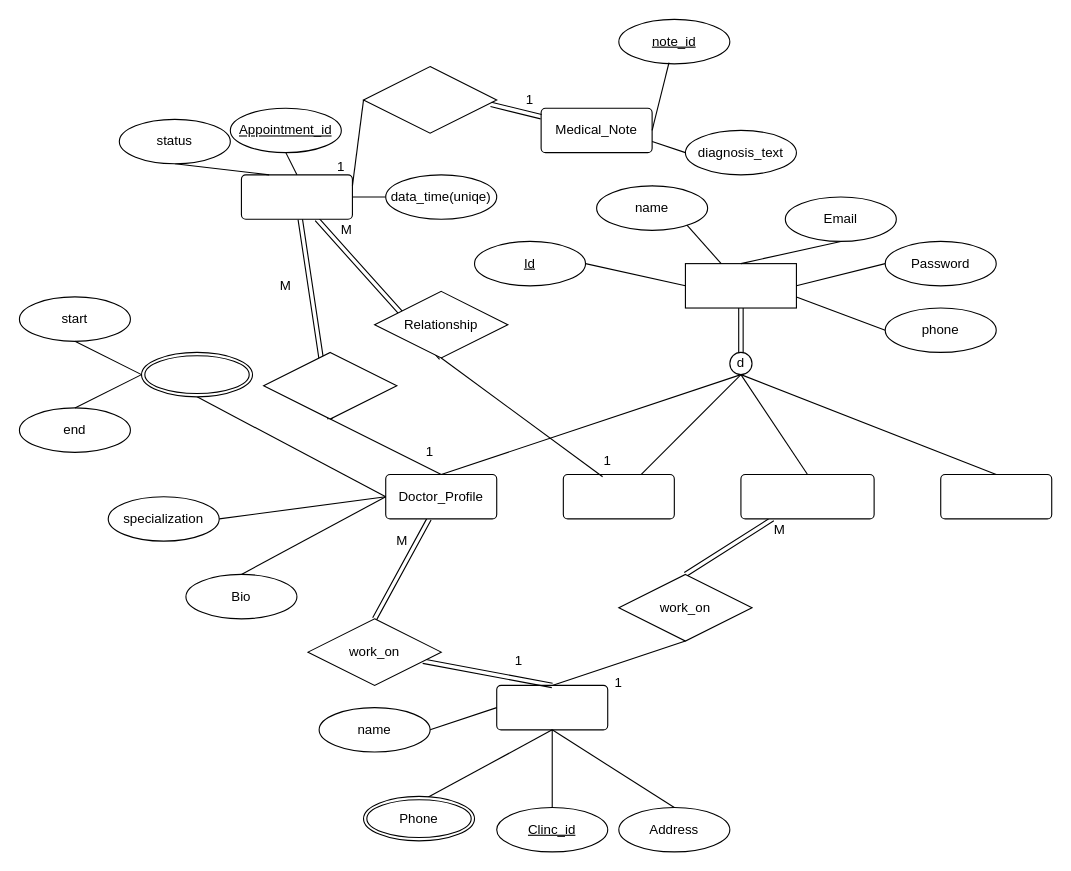
This 1071x871 diagram has some shape labels left out. The shapes that lost their labels are listed below. From the top down, each one's box as (x1, y1, x2, y2) in pixels, then its label:
(362, 65, 497, 133): belong_to
(240, 174, 352, 219): Appointment
(684, 263, 796, 308): users
(140, 351, 253, 397): working_time
(263, 351, 397, 419): with
(562, 473, 674, 519): Patient_Profile
(740, 473, 874, 519): Receptionist_Profile
(940, 473, 1052, 519): Admin
(496, 684, 608, 730): Clinic
